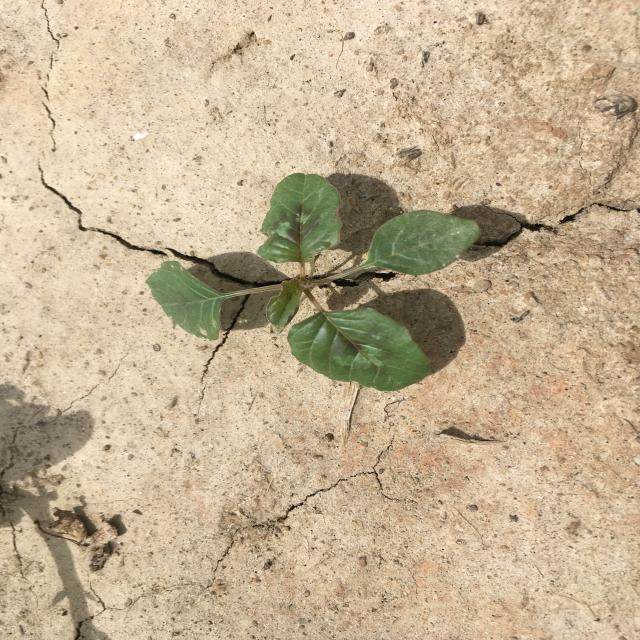PalmerAmaranth: (146, 173, 480, 392)
